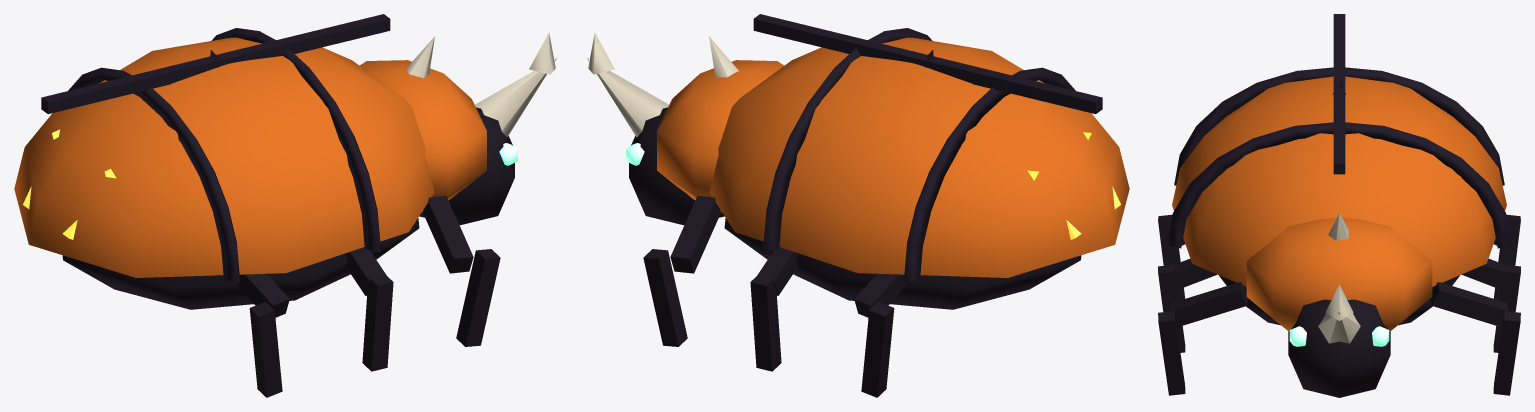
Rendered from enemy_ramBeetle.glb.
3 renders of one model, left to right at view 1: azimuth 30°, elevation 25°; view 2: azimuth 150°, elevation 25°; view 3: azimuth 270°, elevation 25°, orthographic. The views are drawn at different scales.
Parts seen in each view (by area): view 1: shell, pronotum, underside, shell_seam, shell_band_1, shell_band_0, head, leg_r0_tibia, leg_r1_tibia, leg_r2_tibia, leg_r0_femur, horn (+4 smaller); view 2: shell, pronotum, underside, shell_seam, shell_band_1, shell_band_0, head, leg_l0_tibia, leg_l1_tibia, leg_l2_tibia, leg_l0_femur, horn (+4 smaller); view 3: shell, pronotum, head, shell_band_0, shell_band_1, shell_seam, leg_l0_femur, leg_r0_femur, leg_l0_tibia, leg_r0_tibia, horn, leg_l1_tibia (+8 smaller).
Part boxes in pixels (x1,y1,x2,y2): shell: [14, 37, 434, 277]; pronotum: [359, 60, 486, 212]; underside: [62, 218, 419, 309]; shell_seam: [41, 14, 390, 114]; shell_band_1: [68, 67, 239, 283]; shell_band_0: [211, 28, 380, 252]; head: [419, 107, 514, 225]; leg_r0_tibia: [456, 249, 500, 346]; leg_r1_tibia: [362, 273, 393, 371]; leg_r2_tibia: [249, 302, 282, 397]; leg_r0_femur: [423, 195, 473, 273]; horn: [475, 57, 557, 137]; shell: [709, 37, 1129, 277]; pronotum: [657, 60, 784, 212]; underside: [724, 218, 1081, 309]; shell_seam: [753, 14, 1102, 114]; shell_band_1: [904, 67, 1075, 283]; shell_band_0: [763, 28, 932, 252]; head: [629, 107, 724, 225]; leg_l0_tibia: [643, 249, 687, 346]; leg_l1_tibia: [750, 273, 781, 371]; leg_l2_tibia: [861, 302, 894, 397]; leg_l0_femur: [670, 195, 720, 273]; horn: [586, 57, 668, 137]; shell: [1172, 76, 1506, 286]; pronotum: [1246, 218, 1432, 331]; head: [1288, 299, 1390, 397]; shell_band_0: [1167, 122, 1511, 248]; shell_band_1: [1174, 67, 1504, 185]; shell_seam: [1333, 14, 1345, 174]; leg_l0_femur: [1430, 282, 1508, 327]; leg_r0_femur: [1170, 282, 1248, 327]; leg_l0_tibia: [1493, 311, 1520, 395]; leg_r0_tibia: [1158, 311, 1185, 395]; horn: [1318, 312, 1360, 343]; leg_l1_tibia: [1493, 264, 1520, 352].
Bounding box in the file's own units: 0.4635 × 0.2255 × 0.3071.
